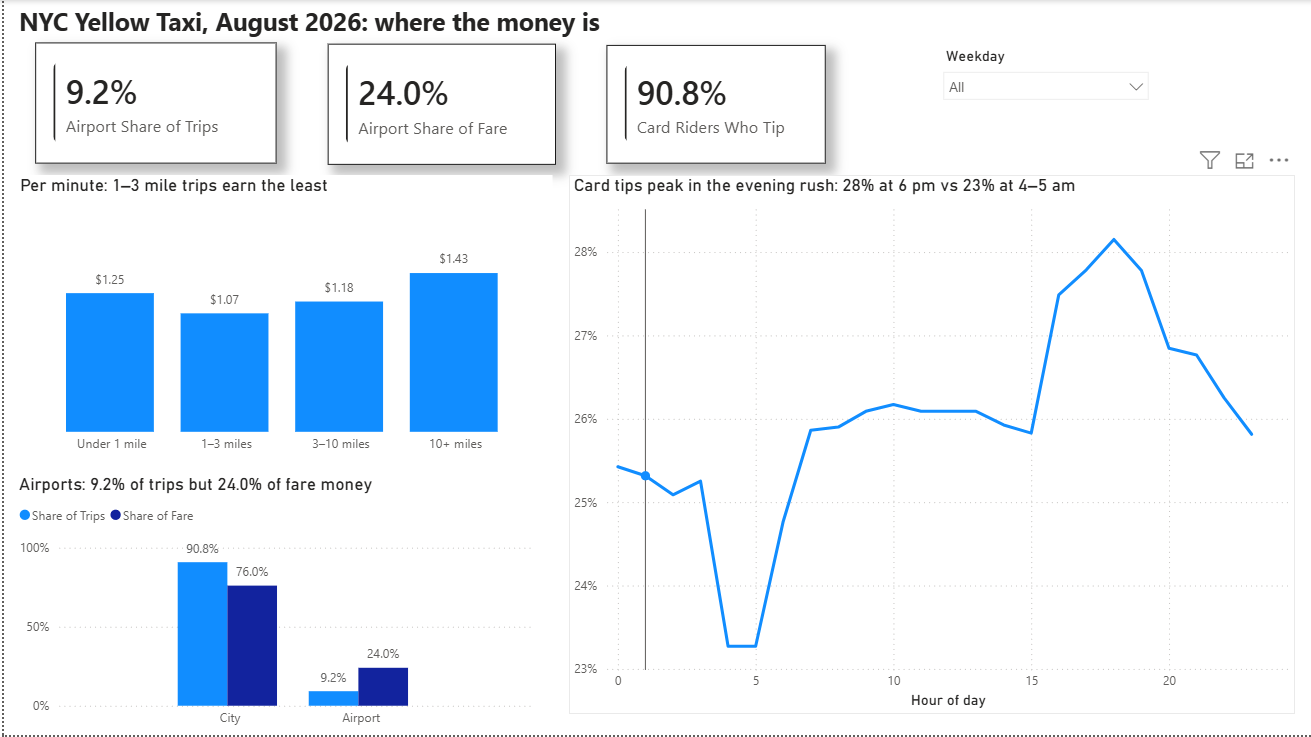

This screenshot's page, from the dashboard's own definition file:
{"tool":"powerbi","page":{"name":"Money: fares, airports and tips","canvas":[1280,720],"ordinal":1},"visuals":[{"type":"textbox","box":[10,0,700,44.3],"z":0},{"type":"cardVisual","fields":{"Data":["Trips.Airport Share of Trips"]},"box":[30,41.4,235.7,118.6],"z":1},{"type":"cardVisual","fields":{"Data":["Trips.Airport Share of Fare"]},"box":[316.4,42.9,222.9,118.6],"z":2},{"type":"cardVisual","fields":{"Data":["Trips.Card Riders Who Tip"]},"box":[590,44.3,214.3,115.7],"z":3},{"type":"clusteredColumnChart","title":"Per minute: 1–3 mile trips earn the least","fields":{"Category":["Trips.Trip Length"],"Y":["Trips.Fare per Minute"]},"box":[11.4,171.4,525.7,281.4],"z":4},{"type":"clusteredColumnChart","title":"Airports: 9.2% of trips but 24.0% of fare money","fields":{"Category":["Trips.trip_type"],"Y":["Trips.Share of Trips","Trips.Share of Fare"]},"box":[10,462.9,511.4,257.1],"z":5},{"type":"lineChart","title":"Card tips peak in the evening rush: 28% at 6 pm vs 23% at 4–5 am","fields":{"Category":["Trips.pickup_hour"],"Y":["Trips.Card Tip %"]},"box":[552.9,171.4,710,527.1],"z":6},{"type":"slicer","fields":{"Values":["Date.Weekday"]},"box":[908.6,41.4,221.4,118.6],"z":7}]}

Visuals, with their boxes in screenshot pixels (x1, y1, x2, y2), scaled from the page's 1280x720 canvas onto the 1311x737 screenshot:
textbox: [10,0,727,45]
cardVisual - Trips.Airport Share of Trips: [31,42,272,164]
cardVisual - Trips.Airport Share of Fare: [324,44,552,165]
cardVisual - Trips.Card Riders Who Tip: [604,45,824,164]
"Per minute: 1–3 mile trips earn the least" clusteredColumnChart: [12,175,550,463]
"Airports: 9.2% of trips but 24.0% of fare money" clusteredColumnChart: [10,474,534,736]
"Card tips peak in the evening rush: 28% at 6 pm vs 23% at 4–5 am" lineChart: [566,175,1293,715]
slicer - Date.Weekday: [931,42,1157,164]
